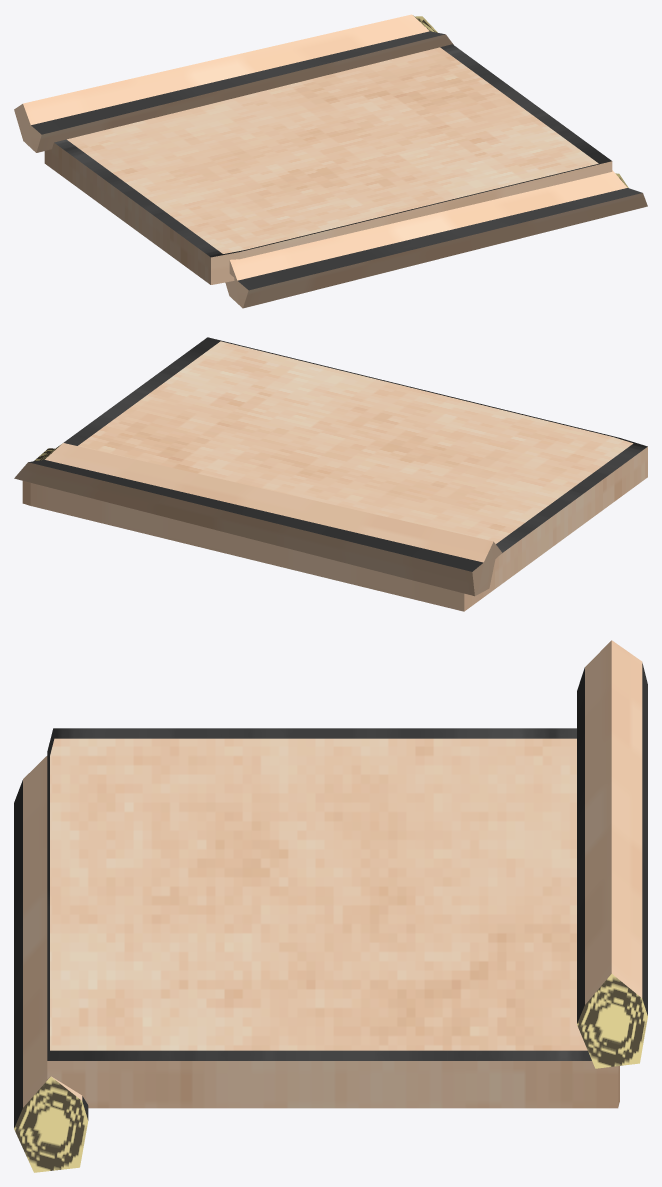
File: action scroll.fbx
3 views of the same model, one above another, from view 1: azimuth 30°, elevation 25°; view 2: azimuth 150°, elevation 25°; view 3: azimuth 270°, elevation 25° (orthographic). The views are drawn at different scales.
Parts seen in each view (by area): view 1: card1.001; view 2: card1.001; view 3: card1.001.
Boxes of the visible parts, x1,y1,x2,y2 form: card1.001: [14, 14, 647, 308]; card1.001: [14, 337, 647, 611]; card1.001: [14, 640, 647, 1172].
Bounding box in the file's own units: 519 × 101 × 366.
3 materials, 3 textured.
